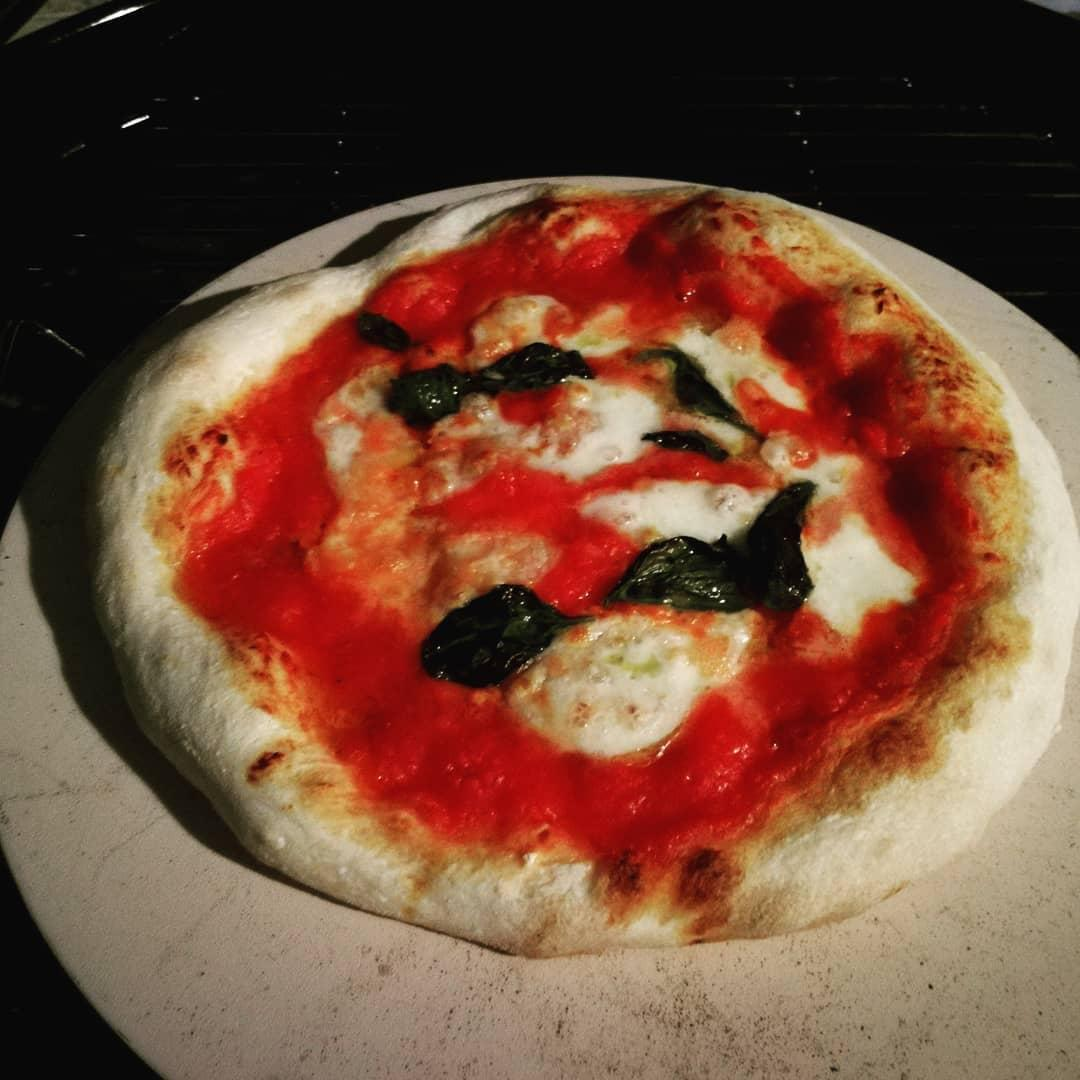Basil: (416, 579, 600, 692), (379, 341, 601, 429), (628, 338, 774, 444), (604, 527, 772, 618), (740, 471, 822, 620), (627, 425, 738, 469), (352, 303, 422, 354)
Pizza: (80, 192, 1080, 957)
